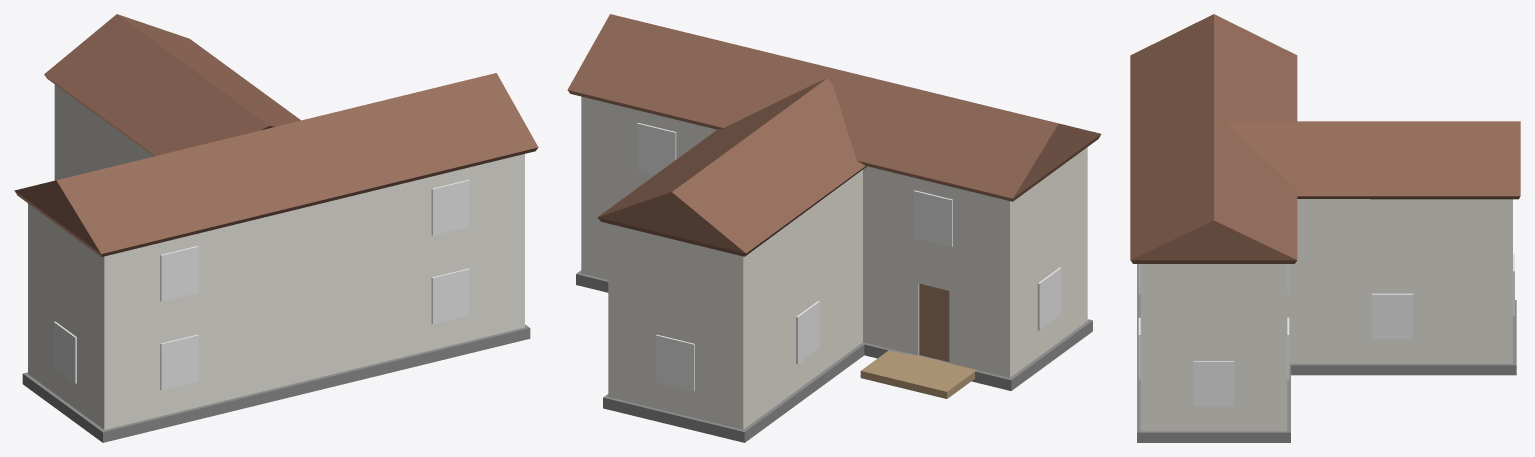
Rendered from t-shaped-model-two-floor.glb.
3 renders of one model, left to right at view 1: azimuth 30°, elevation 25°; view 2: azimuth 150°, elevation 25°; view 3: azimuth 270°, elevation 25°, orthographic. The views are drawn at different scales.
Visible parts, largest first — view 1: Roof_Horizontal, Back_Wall_Horizontal_F1, Back_Wall_Horizontal_F2, Roof_Vertical, Left_End_Horizontal_F2, Foundation_T_Shaped, Left_End_Horizontal_F1, Left_Wall_Vertical_F2, Window_Horiz_F1_Back_R_Frame, Window_Horiz_F2_Back_L_Frame, Window_Horiz_F1_Back_L_Frame, Window_Horiz_F2_Back_R_Frame (+3 smaller); view 2: Roof_Horizontal, Roof_Vertical, Front_Wall_Horizontal_F2, Front_Wall_Horizontal_F1, End_Wall_Vertical_F2, Left_Wall_Vertical_F2, Left_Wall_Vertical_F1, End_Wall_Vertical_F1, Left_End_Horizontal_F2, Left_End_Horizontal_F1, Foundation_T_Shaped, Terrace (+9 smaller); view 3: Roof_Horizontal, Roof_Vertical, Right_Wall_Vertical_F1, Right_Wall_Vertical_F2, Right_End_Horizontal_F2, Right_End_Horizontal_F1, Foundation_T_Shaped, Window_Horiz_F1_Right_Frame, Window_Vert_F1_Right_Frame.
Boxes of the visible parts, x1,y1,x2,y2 form: Roof_Horizontal: [14, 73, 538, 256]; Back_Wall_Horizontal_F1: [111, 240, 517, 428]; Back_Wall_Horizontal_F2: [111, 155, 517, 339]; Roof_Vertical: [44, 14, 300, 156]; Left_End_Horizontal_F2: [28, 203, 111, 341]; Foundation_T_Shaped: [22, 324, 530, 442]; Left_End_Horizontal_F1: [28, 285, 111, 429]; Left_Wall_Vertical_F2: [54, 84, 153, 176]; Window_Horiz_F1_Back_R_Frame: [431, 268, 469, 324]; Window_Horiz_F2_Back_L_Frame: [160, 246, 198, 301]; Window_Horiz_F1_Back_L_Frame: [160, 334, 198, 390]; Window_Horiz_F2_Back_R_Frame: [431, 179, 469, 235]; Roof_Horizontal: [567, 14, 1101, 201]; Roof_Vertical: [597, 78, 866, 256]; Front_Wall_Horizontal_F2: [588, 98, 1002, 285]; Front_Wall_Horizontal_F1: [588, 185, 1002, 376]; End_Wall_Vertical_F2: [608, 224, 746, 338]; Left_Wall_Vertical_F2: [736, 170, 862, 339]; Left_Wall_Vertical_F1: [736, 252, 862, 429]; End_Wall_Vertical_F1: [608, 307, 747, 428]; Left_End_Horizontal_F2: [1003, 147, 1087, 287]; Left_End_Horizontal_F1: [1003, 231, 1087, 377]; Foundation_T_Shaped: [576, 270, 1092, 442]; Terrace: [860, 350, 976, 398]; Roof_Horizontal: [1130, 14, 1297, 263]; Roof_Vertical: [1227, 121, 1520, 199]; Right_Wall_Vertical_F1: [1287, 278, 1512, 363]; Right_Wall_Vertical_F2: [1289, 199, 1512, 278]; Right_End_Horizontal_F2: [1140, 264, 1287, 345]; Right_End_Horizontal_F1: [1140, 346, 1287, 431]; Foundation_T_Shaped: [1137, 264, 1516, 442]; Window_Horiz_F1_Right_Frame: [1193, 361, 1234, 406]; Window_Vert_F1_Right_Frame: [1372, 293, 1413, 338].
Bounding box in the file's own units: 12.98 × 6.62 × 10.37.
